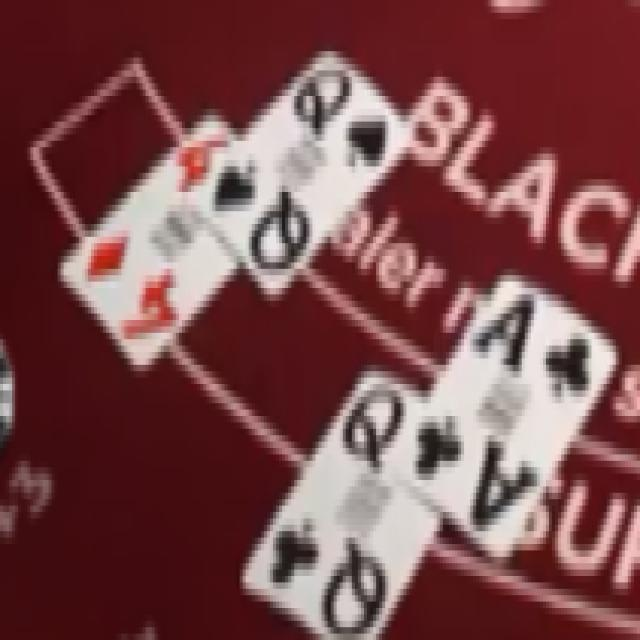Card-4: (58, 112, 240, 366)
Card-A: (394, 276, 616, 558)
Card-Q: (192, 42, 414, 302), (244, 366, 443, 640)
